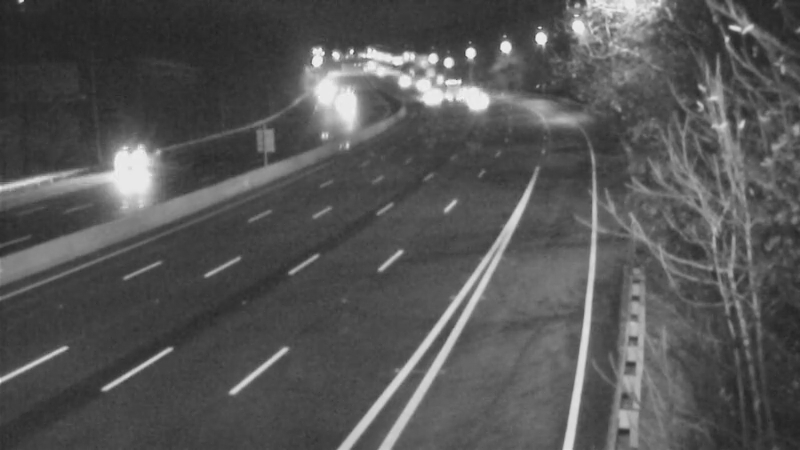vehicle: (97, 121, 177, 201), (378, 58, 428, 108), (390, 59, 440, 109), (429, 64, 479, 114), (407, 76, 457, 126), (445, 77, 495, 127), (318, 79, 368, 129)
